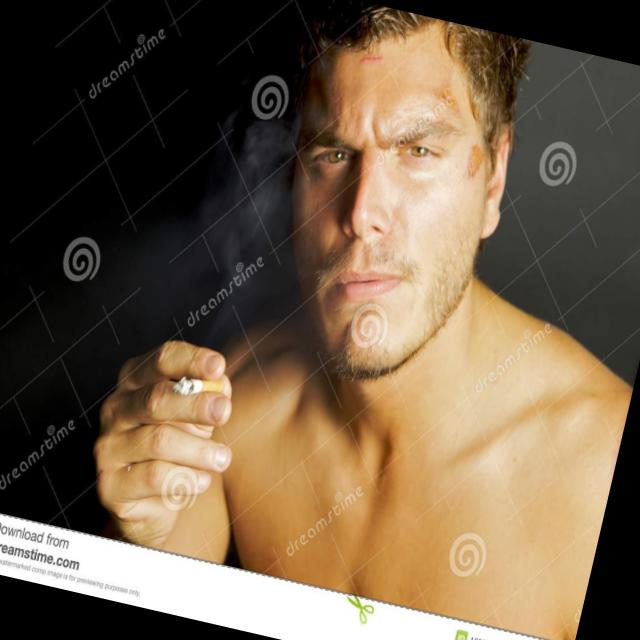cigarette: (153, 363, 236, 413)
